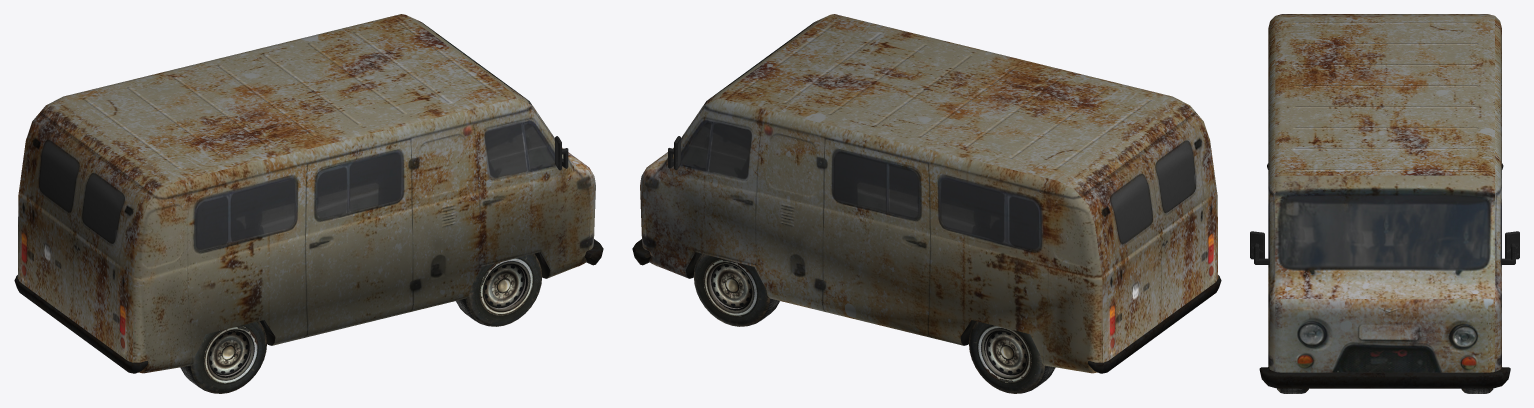
File: uaz_001.fbx
3 renders of one model, left to right at view 1: azimuth 30°, elevation 25°; view 2: azimuth 150°, elevation 25°; view 3: azimuth 270°, elevation 25°, orthographic. The views are drawn at different scales.
Visible parts, largest first — view 1: Cube; view 2: Cube; view 3: Cube, Cube.002, Cube.001.
Boxes of the visible parts, bbox=[...] form: Cube: bbox=[14, 14, 603, 393]; Cube: bbox=[632, 14, 1221, 393]; Cube: bbox=[1259, 14, 1510, 393]; Cube.002: bbox=[1250, 231, 1269, 264]; Cube.001: bbox=[1500, 231, 1519, 264].
Size of the model in its own units: 771 by 358 by 399.
3 materials, 3 textured.
